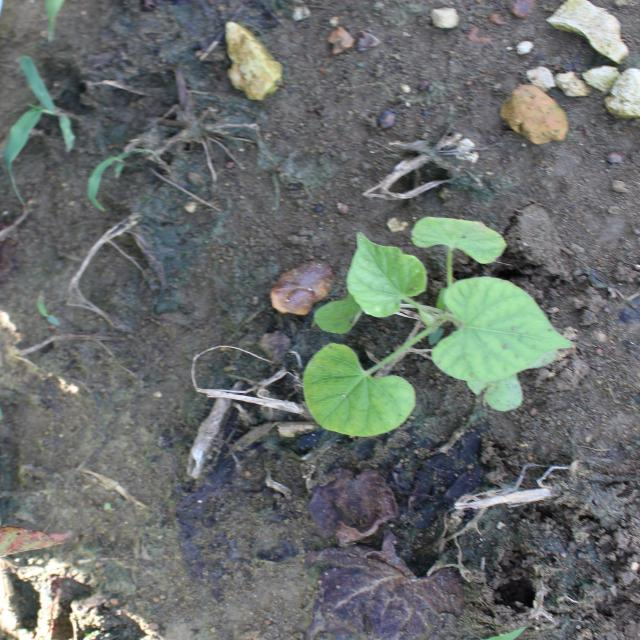MorningGlory: (300, 215, 578, 440)
